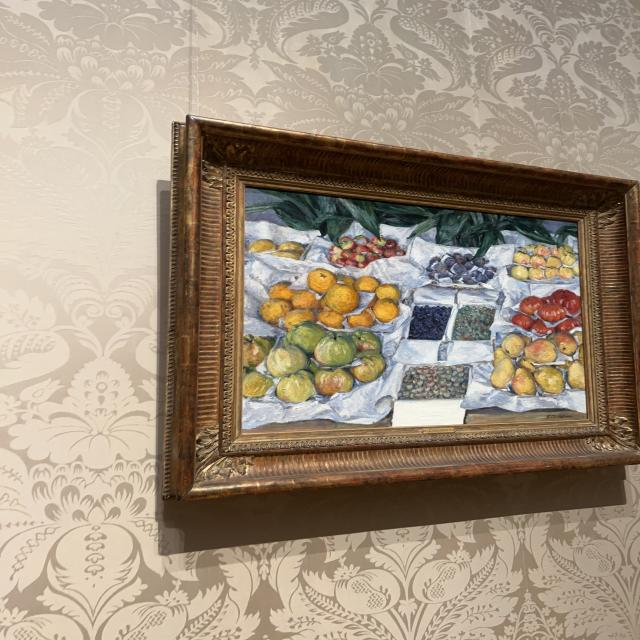fruits: (248, 190, 582, 427)
